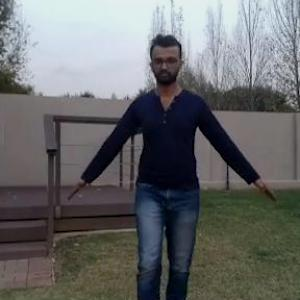land: (78, 34, 258, 299)
